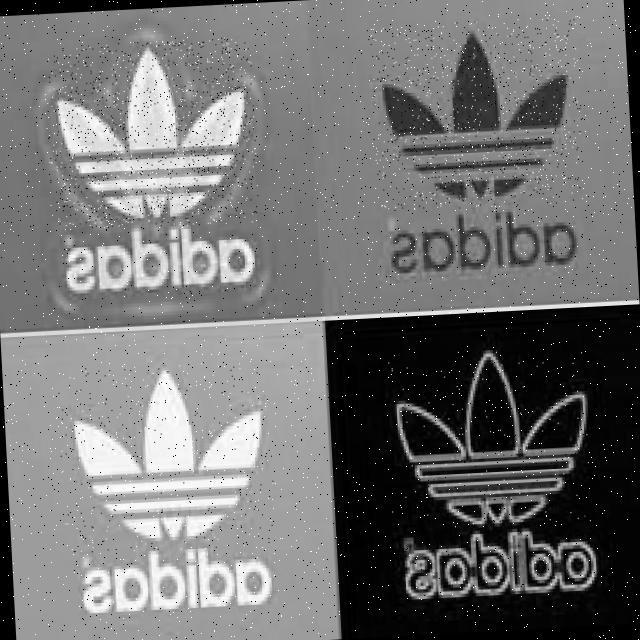Adidas: (57, 359, 277, 556), (367, 16, 587, 213), (42, 36, 260, 233), (384, 345, 601, 532)
